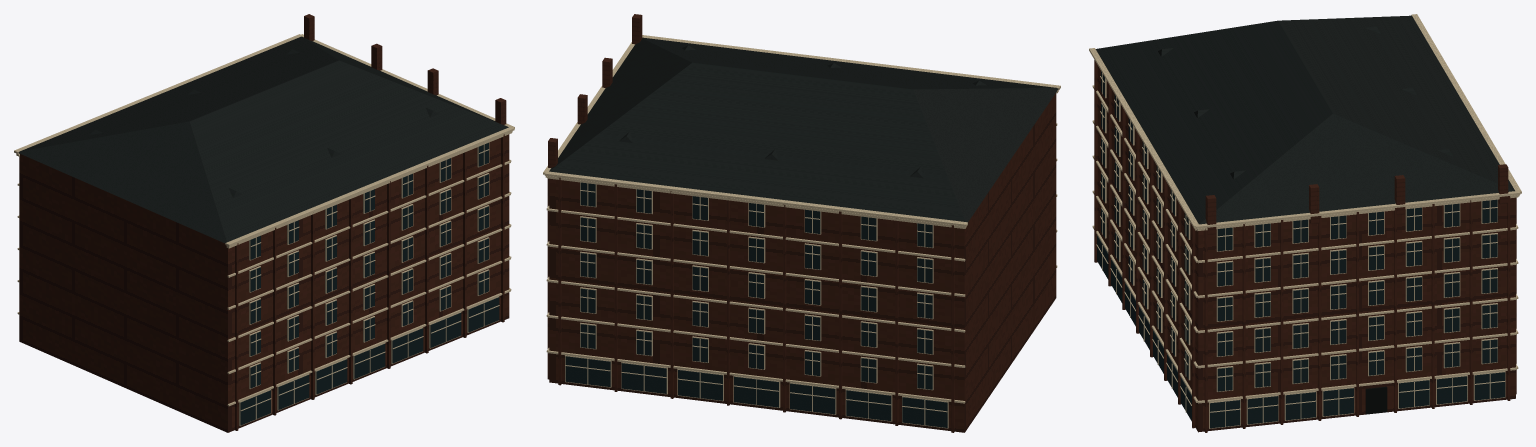
3 views of the same model, side by side, from view 1: azimuth 30°, elevation 25°; view 2: azimuth 150°, elevation 25°; view 3: azimuth 270°, elevation 25° (orthographic). The views are drawn at different scales.
Parts seen in each view (by area): view 1: handel-nijverheid-0, handel-nijverheid-1, handel-nijverheid-2, handel-nijverheid-3; view 2: handel-nijverheid-0, handel-nijverheid-1, handel-nijverheid-3, handel-nijverheid-2; view 3: handel-nijverheid-1, handel-nijverheid-0, handel-nijverheid-3, handel-nijverheid-2, handel-nijverheid-4.
Part boxes in pixels (bbox=[...]): handel-nijverheid-0: bbox=[19, 14, 509, 432]; handel-nijverheid-1: bbox=[18, 36, 508, 243]; handel-nijverheid-2: bbox=[14, 34, 514, 425]; handel-nijverheid-3: bbox=[240, 142, 499, 425]; handel-nijverheid-0: bbox=[547, 14, 1056, 432]; handel-nijverheid-1: bbox=[549, 37, 1058, 222]; handel-nijverheid-3: bbox=[565, 182, 947, 427]; handel-nijverheid-2: bbox=[543, 35, 1060, 428]; handel-nijverheid-1: bbox=[1095, 15, 1514, 224]; handel-nijverheid-0: bbox=[1094, 60, 1516, 432]; handel-nijverheid-3: bbox=[1097, 71, 1505, 428]; handel-nijverheid-2: bbox=[1089, 14, 1521, 428]; handel-nijverheid-4: bbox=[1365, 386, 1387, 414].
Bounding box in the file's own units: 50.76 × 29 × 43.6.
6 materials, 6 textured.
